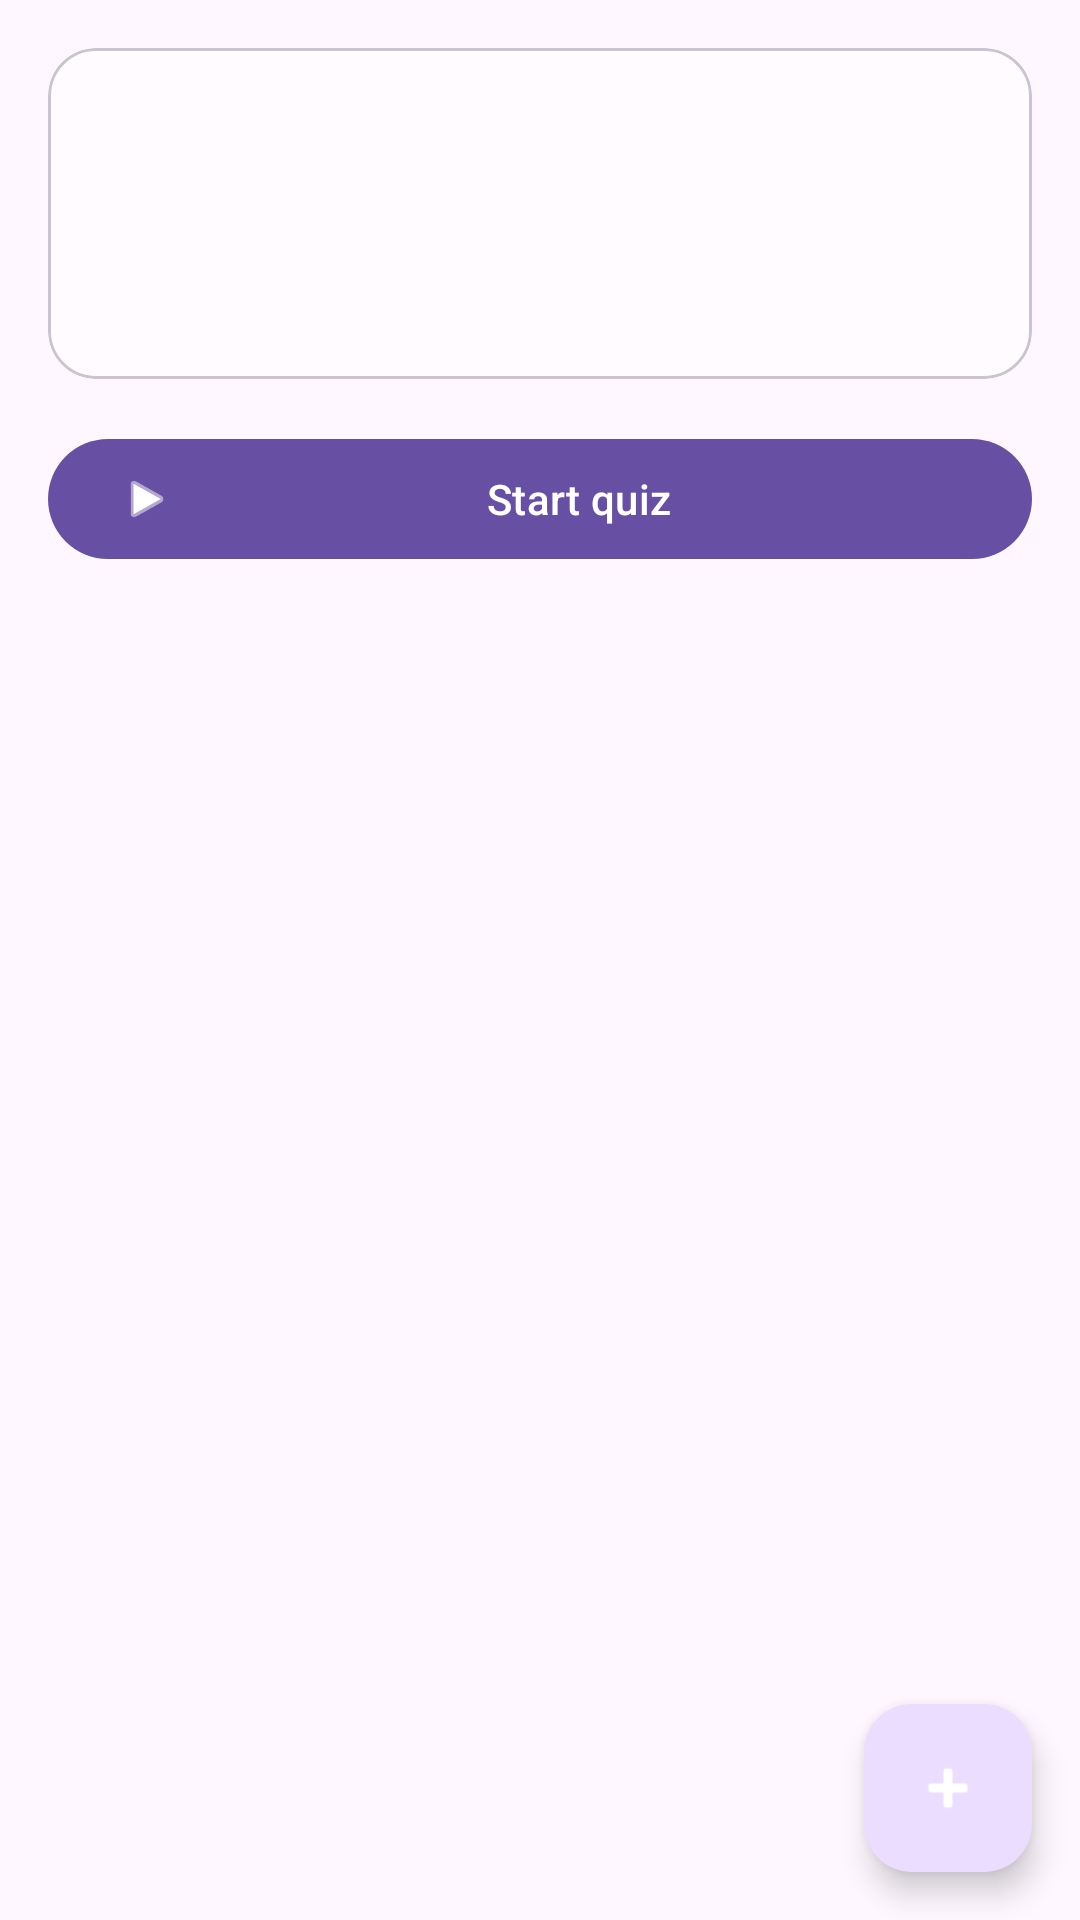

Named icons in this screenshot (1080x1920) and their bounding boxes, (x1, y1, x2, y2):
Add card: (864, 1704, 1032, 1872)
